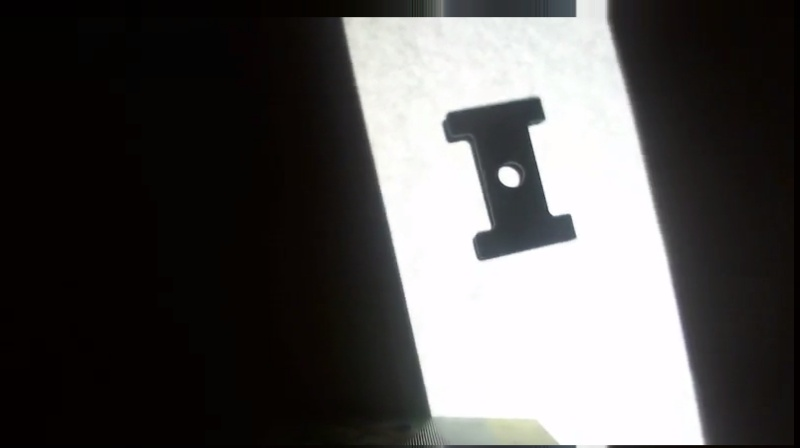O002: (440, 94, 580, 264)
